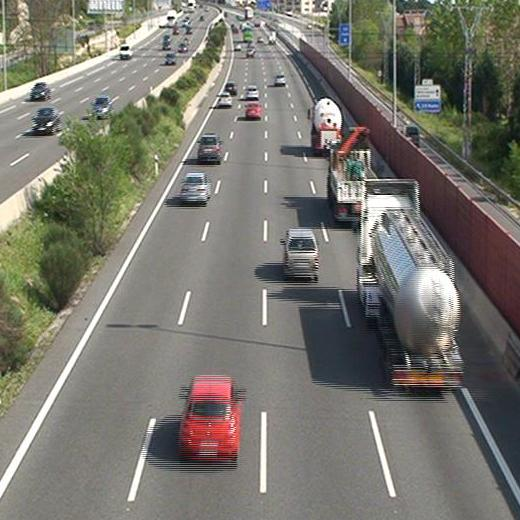car: (179, 377, 242, 459), (282, 229, 318, 279), (181, 174, 210, 203), (198, 135, 222, 162), (246, 102, 261, 118), (218, 93, 231, 106), (245, 86, 259, 98), (275, 73, 286, 85), (224, 82, 235, 92)
small-truck: (328, 132, 378, 218)
tank-truck: (358, 180, 465, 386), (309, 99, 342, 153)
